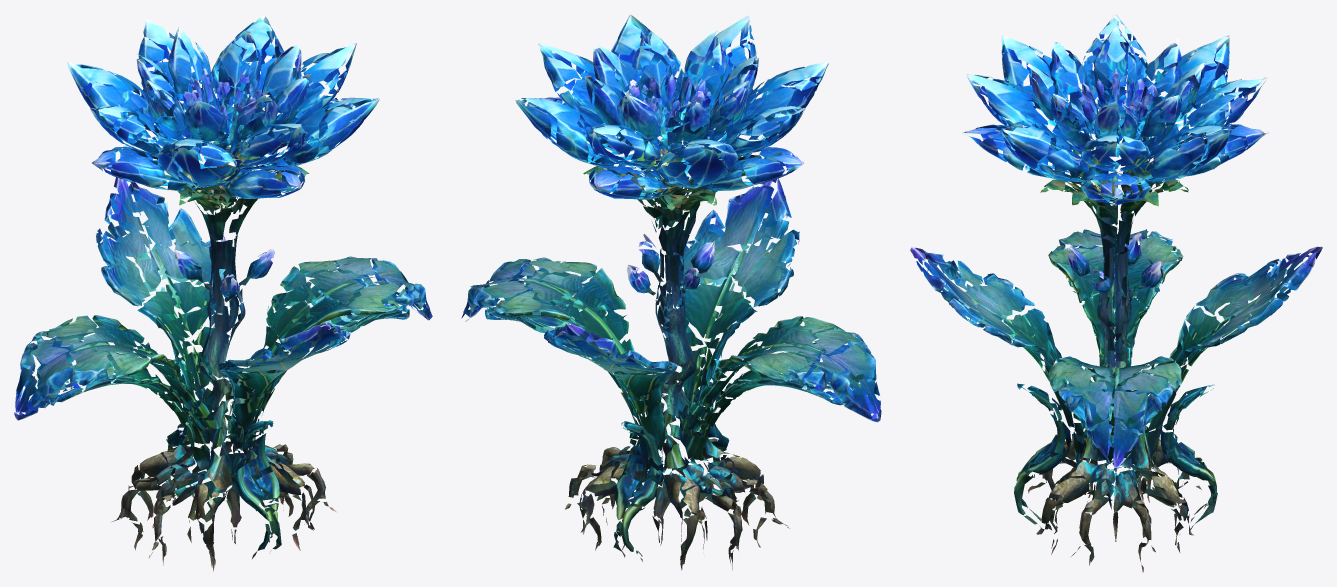
File: plante.glb
3 renders of one model, left to right at view 1: azimuth 30°, elevation 25°; view 2: azimuth 150°, elevation 25°; view 3: azimuth 270°, elevation 25°, orthographic.
Visible parts, largest first — view 1: mesh; view 2: mesh; view 3: mesh.
Part boxes in pixels (left/top/right/bottom): mesh: left=14, top=14, right=432, bottom=571; mesh: left=461, top=14, right=881, bottom=570; mesh: left=910, top=14, right=1322, bottom=572.
Size of the model in its own units: 1.71 by 1.9 by 1.49.
1 material, 1 textured.
